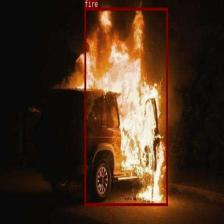fire: (84, 7, 167, 205)
